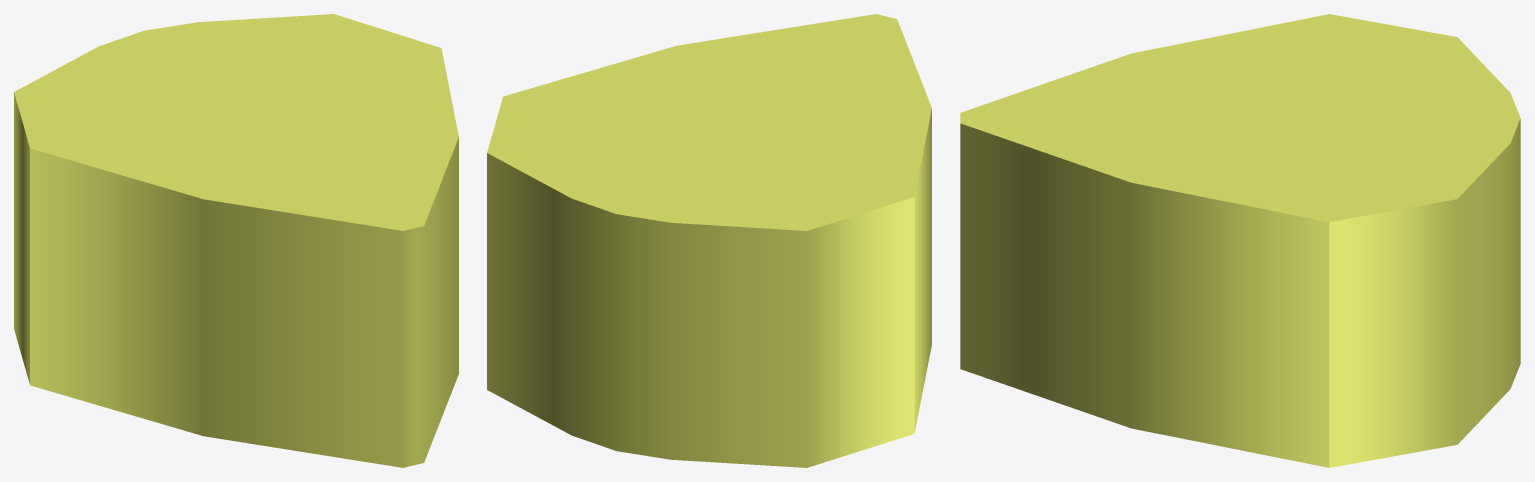
The model's file is Cheese.fbx.
3 renders of one model, left to right at view 1: azimuth 30°, elevation 25°; view 2: azimuth 150°, elevation 25°; view 3: azimuth 270°, elevation 25°, orthographic. The views are drawn at different scales.
Visible parts, largest first — view 1: Cheese; view 2: Cheese; view 3: Cheese.
Part boxes in pixels (x1,y1,x2,y2): Cheese: (14,14,458,467); Cheese: (487,14,931,467); Cheese: (960,14,1520,467).
Bounding box in the file's own units: 19.03 × 10.47 × 21.63.
